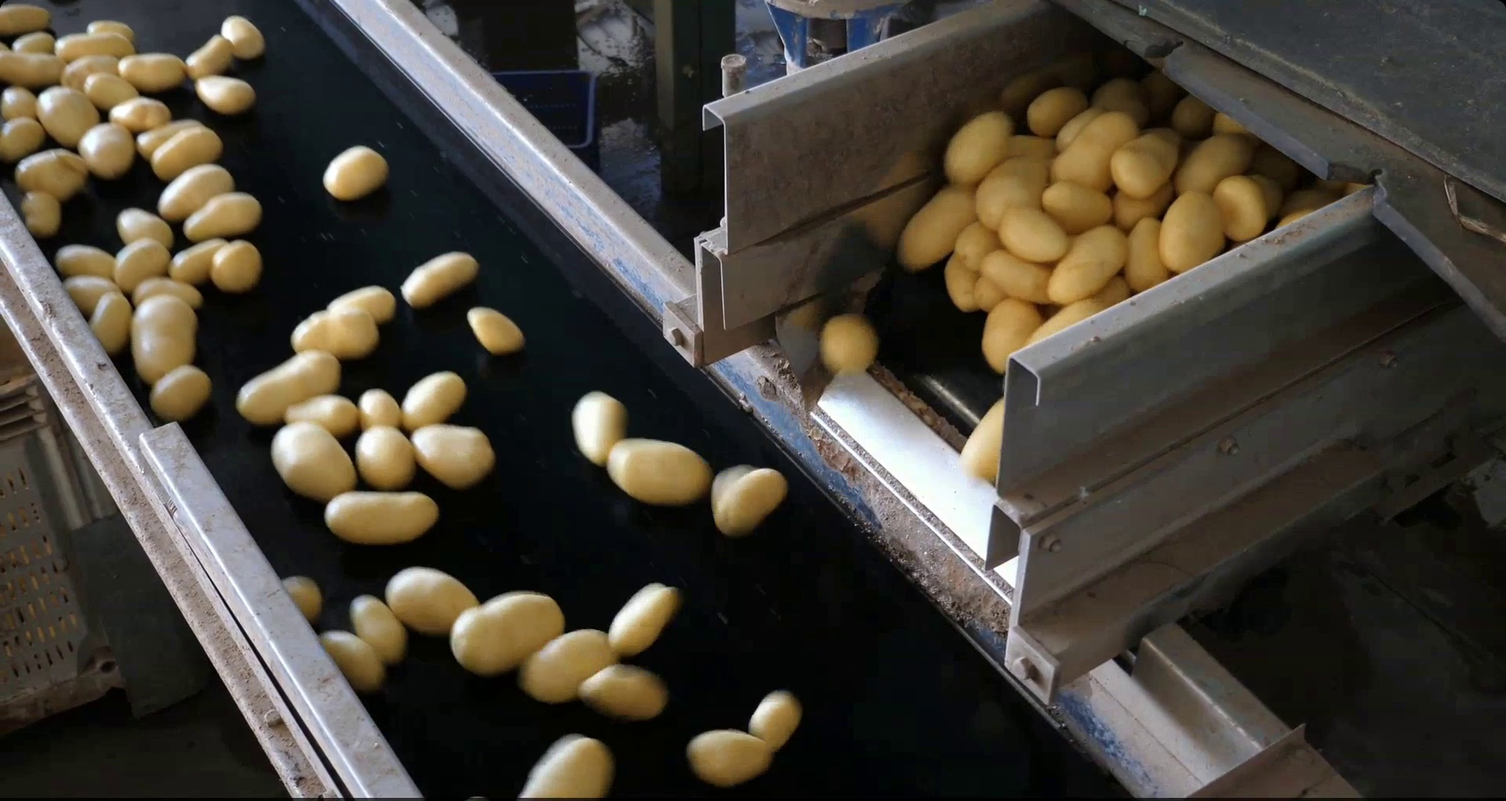potato: (447, 589, 567, 680), (226, 346, 345, 426), (515, 625, 620, 707), (602, 433, 713, 510), (895, 176, 982, 274), (1042, 108, 1140, 195), (265, 417, 358, 504), (318, 486, 441, 549), (1043, 219, 1132, 305), (122, 291, 200, 389), (511, 729, 617, 801), (382, 563, 485, 636), (1153, 184, 1228, 278), (969, 151, 1049, 235), (1166, 129, 1257, 200), (409, 419, 498, 490), (604, 581, 683, 658), (573, 660, 669, 723), (681, 724, 775, 788), (709, 460, 786, 538), (941, 104, 1014, 186), (566, 384, 632, 472), (151, 161, 237, 227), (976, 295, 1044, 378), (397, 248, 485, 312), (343, 588, 414, 666), (286, 305, 380, 363), (1021, 293, 1109, 353), (996, 198, 1077, 263), (178, 187, 268, 245), (315, 626, 387, 698), (980, 242, 1059, 307), (955, 391, 1005, 492), (1035, 175, 1115, 237), (1108, 130, 1180, 198), (34, 82, 102, 153), (814, 310, 882, 381), (318, 140, 393, 204), (1118, 213, 1174, 298), (12, 147, 94, 205), (399, 367, 468, 434), (353, 422, 419, 491), (141, 361, 214, 423), (147, 125, 224, 183), (1021, 82, 1097, 140), (1104, 178, 1181, 234), (742, 686, 804, 753), (108, 233, 169, 296), (1212, 169, 1263, 244), (279, 391, 362, 437), (131, 114, 207, 163), (75, 119, 137, 179), (323, 281, 402, 327), (85, 288, 134, 360), (165, 235, 235, 285), (206, 237, 266, 295), (191, 69, 260, 118), (464, 303, 524, 357), (115, 51, 191, 92), (1053, 102, 1117, 150), (52, 31, 140, 65), (952, 219, 1006, 274), (59, 272, 126, 316), (1, 45, 72, 86), (128, 275, 206, 312), (60, 51, 125, 95), (52, 242, 120, 284), (105, 92, 173, 134), (181, 31, 237, 82), (218, 9, 269, 62), (114, 205, 173, 250), (940, 249, 979, 317), (82, 70, 144, 112), (356, 383, 402, 435), (277, 571, 323, 622), (2, 112, 48, 163), (17, 186, 61, 238), (1090, 269, 1138, 316), (2, 81, 40, 129), (1242, 171, 1285, 212), (1, 1, 53, 34), (1170, 92, 1206, 138), (82, 14, 136, 42), (11, 28, 59, 59), (1286, 183, 1326, 219), (1272, 202, 1324, 228), (1208, 109, 1253, 138), (971, 273, 1002, 315), (1342, 179, 1367, 198)
